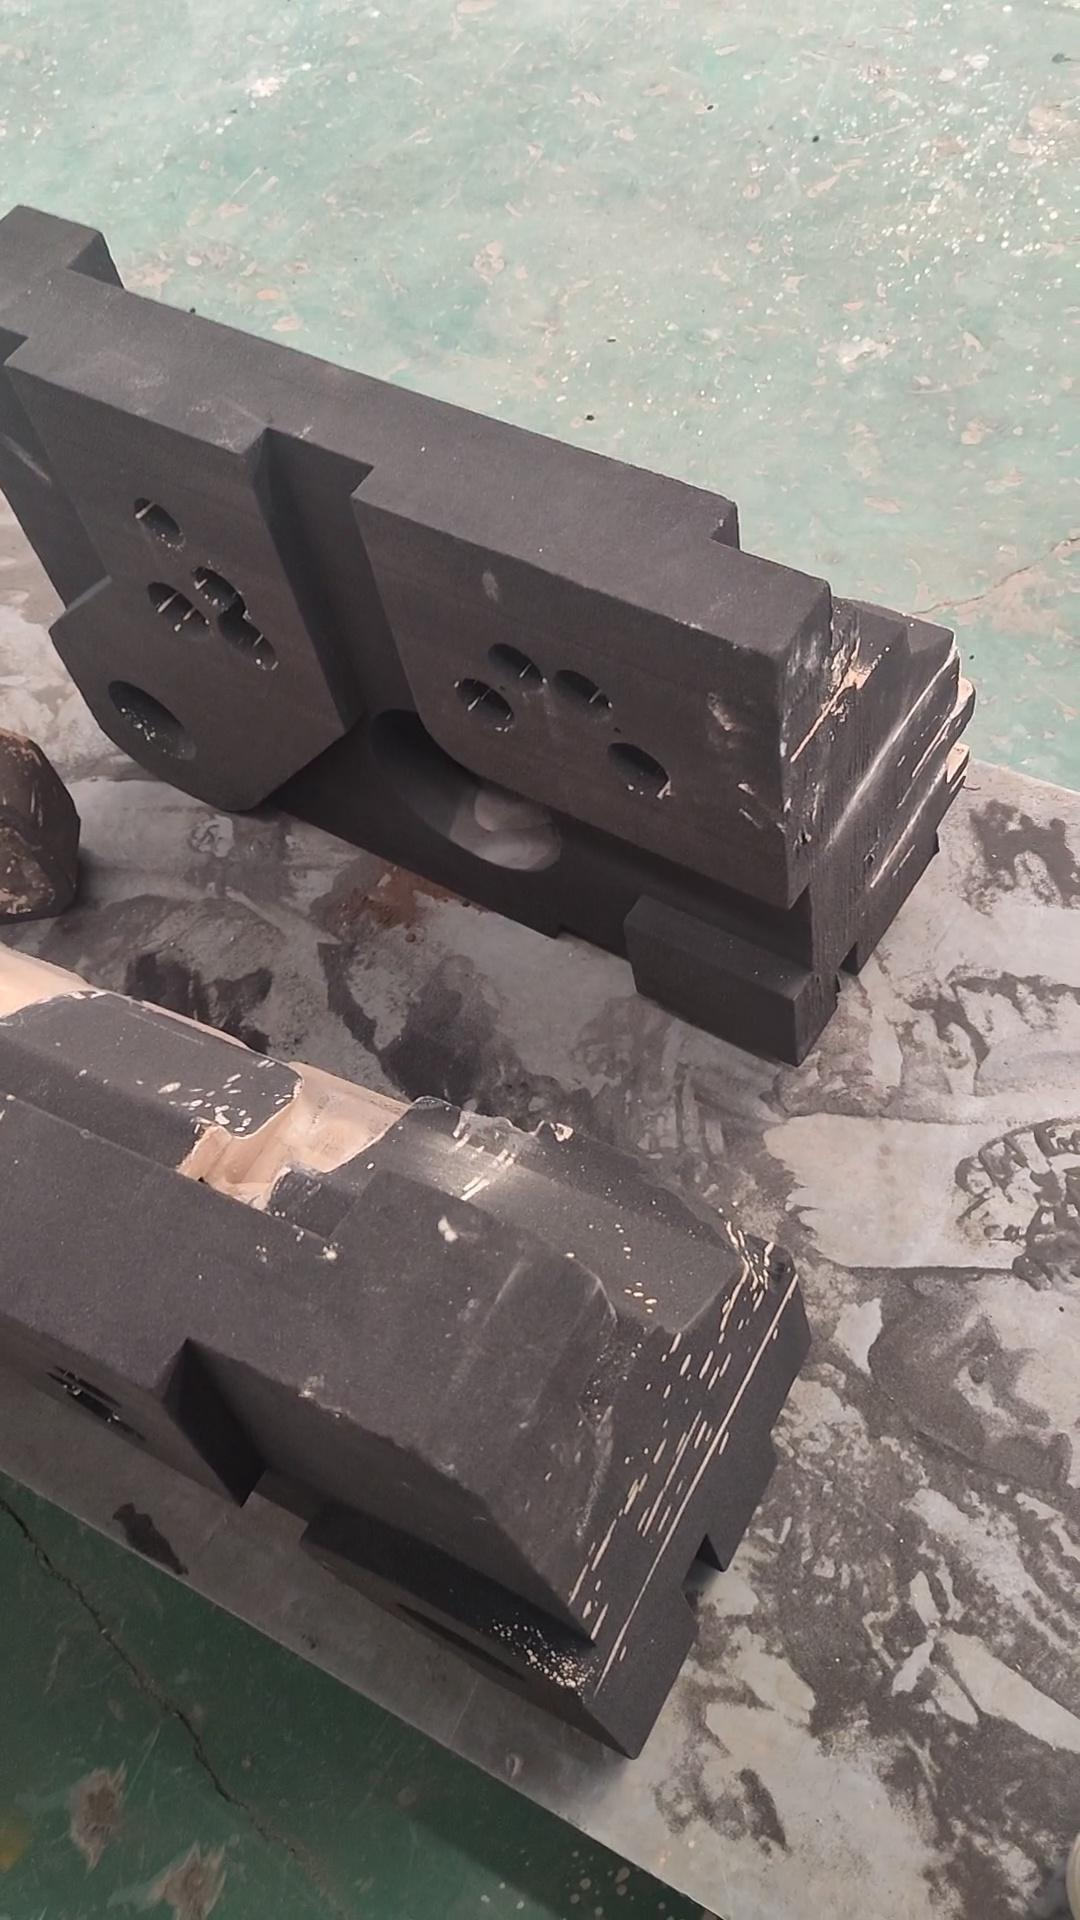pouring hole: (393, 1604, 524, 1683), (109, 682, 195, 761)
